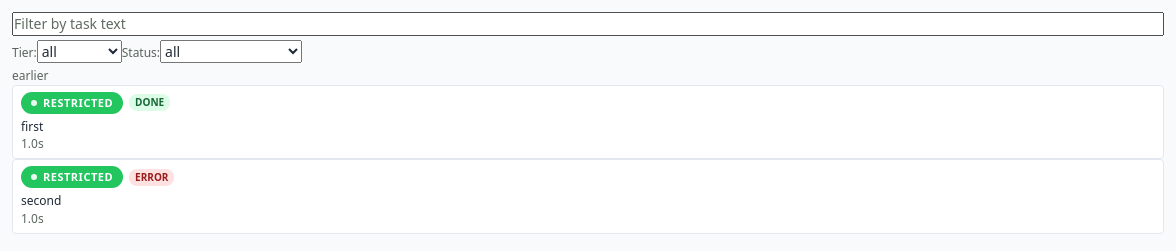
Scenario: RunHistory › status filter narrows to matching status
Select "error" in the dropdown named "filter by status" at x=231, y=52, box 160,40 -> 302,63
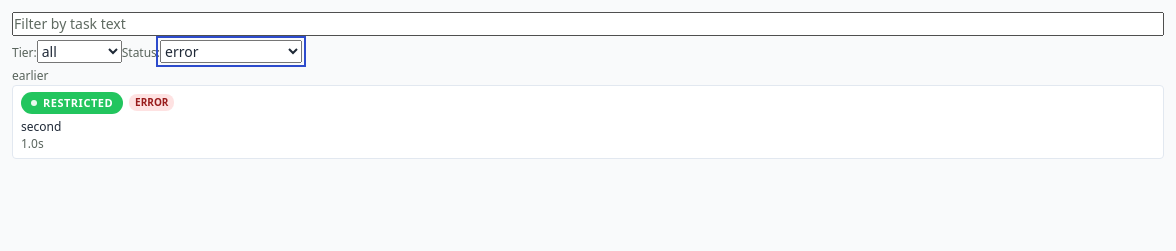
Expected: the text "second" is shown, 21,118 -> 61,135
Now the text "first" is gone
